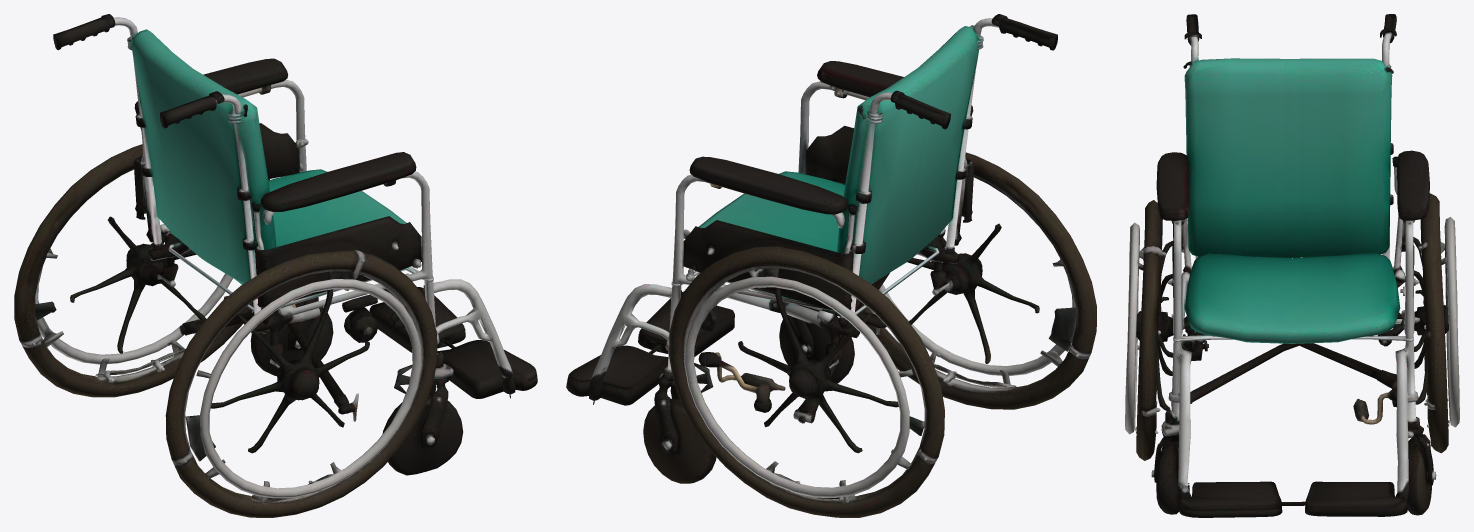
File: wheelchair.glb
3 renders of one model, left to right at view 1: azimuth 30°, elevation 25°; view 2: azimuth 150°, elevation 25°; view 3: azimuth 270°, elevation 25°, orthographic. The views are drawn at different scales.
Parts seen in each view (by area): view 1: tripo_node_5f43d794-7cbd-4099-b258-a30335e54340; view 2: tripo_node_5f43d794-7cbd-4099-b258-a30335e54340; view 3: tripo_node_5f43d794-7cbd-4099-b258-a30335e54340.
Part boxes in pixels (box(x1,y1,x2,y2)): tripo_node_5f43d794-7cbd-4099-b258-a30335e54340: box(14, 14, 537, 517); tripo_node_5f43d794-7cbd-4099-b258-a30335e54340: box(566, 14, 1096, 517); tripo_node_5f43d794-7cbd-4099-b258-a30335e54340: box(1125, 14, 1459, 517).
Size of the model in its own units: 0.9829 by 0.9995 by 0.7729.
Materials: 1 (1 with a texture image).
